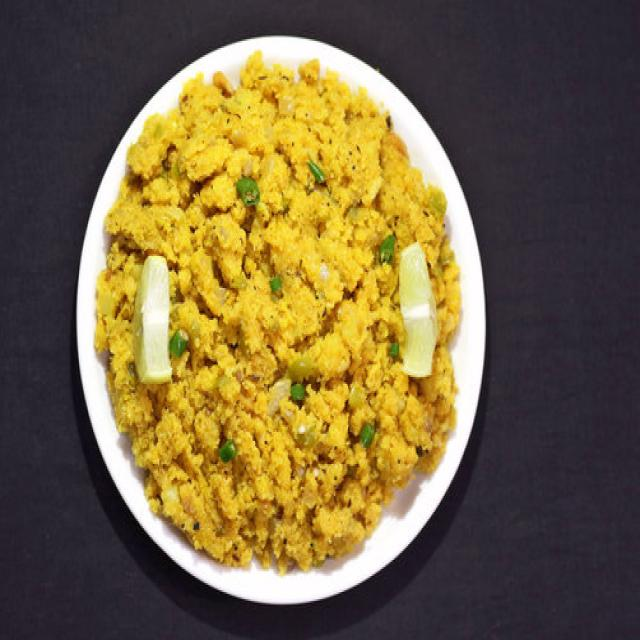UPMA: (96, 59, 459, 571)
